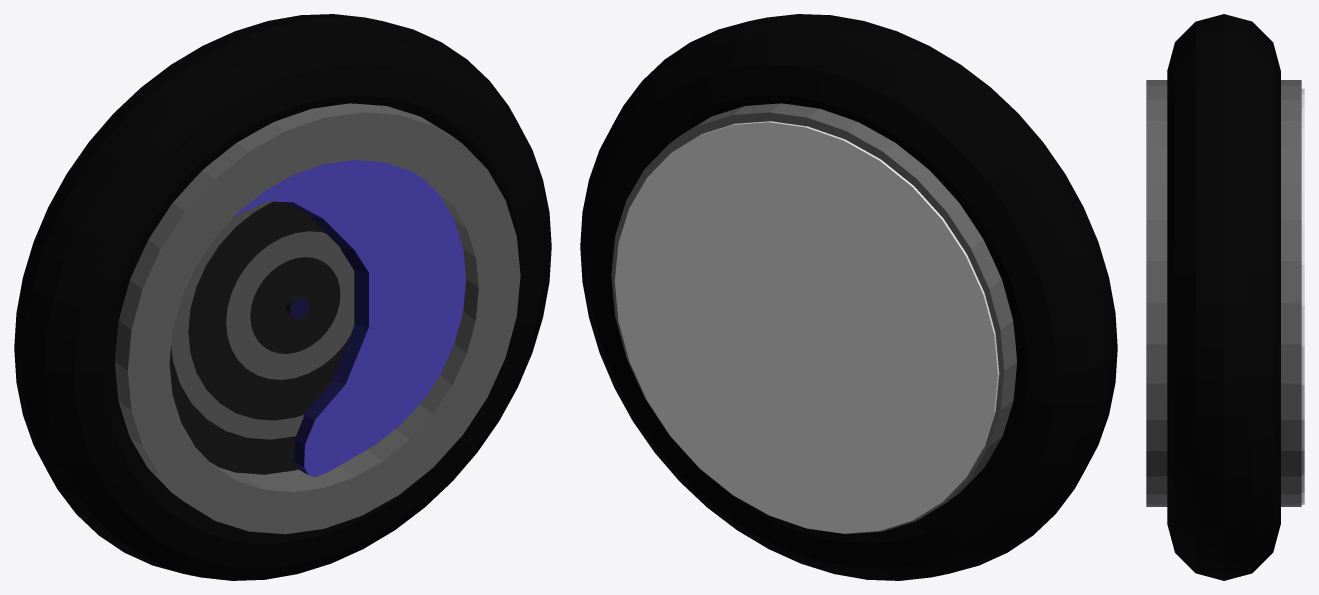
The model's file is wheel.fbx.
3 views of the same model, side by side, from view 1: azimuth 30°, elevation 25°; view 2: azimuth 150°, elevation 25°; view 3: azimuth 270°, elevation 25° (orthographic). The views are drawn at different scales.
Visible parts, largest first — view 1: Torus, Cylinder.003, Cylinder; view 2: Cylinder.001, Torus, Cylinder; view 3: Torus, Cylinder, Cylinder.001.
Boxes of the visible parts, x1,y1,x2,y2 form: Torus: (14, 14, 551, 580); Cylinder.003: (169, 160, 465, 477); Cylinder: (115, 103, 520, 534); Cylinder.001: (614, 121, 999, 533); Torus: (580, 14, 1117, 580); Cylinder: (611, 103, 1016, 534); Torus: (1167, 14, 1280, 580); Cylinder: (1146, 80, 1301, 506); Cylinder.001: (1301, 88, 1304, 504).
Bounding box in the file's own units: 331 × 331 × 92.22.
